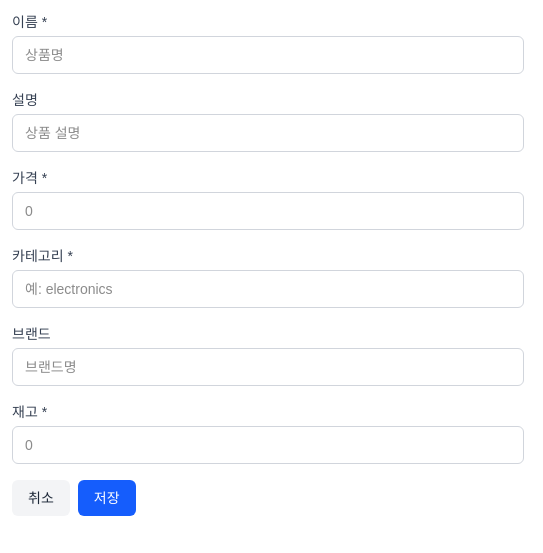
ProductForm › 재고가 음수이면 에러를 표시한다
This screenshot has width=543, height=553.
Type "테스트" into the field labelled "이름 *".
click(268, 55); type("테스트")  # box [12,36,524,74]
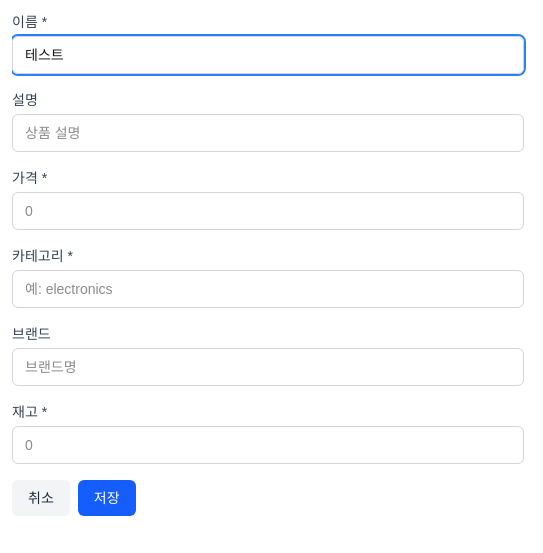
Type "electronics" into the field labelled "카테고리 *".
click(268, 289); type("electronics")  # box [12,270,524,308]
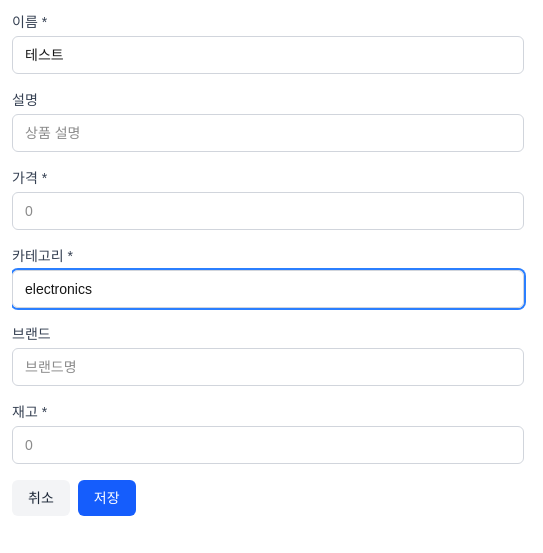
Type "1000" into the number field labelled "가격 *".
click(268, 211); type("1000")  # box [12,192,524,230]
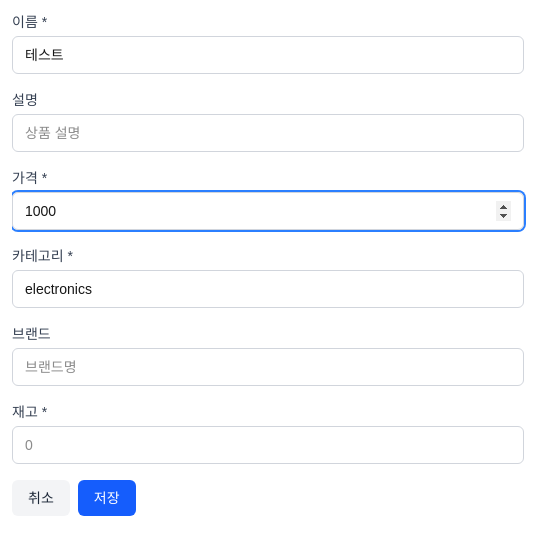
Type "-1" into the number field labelled "재고 *".
click(268, 445); type("-1")  # box [12,426,524,464]
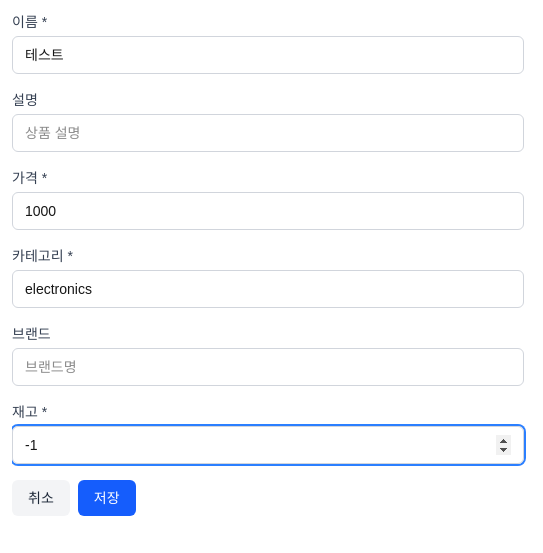
Click the button "저장".
click(107, 498)  # box [78,480,136,516]
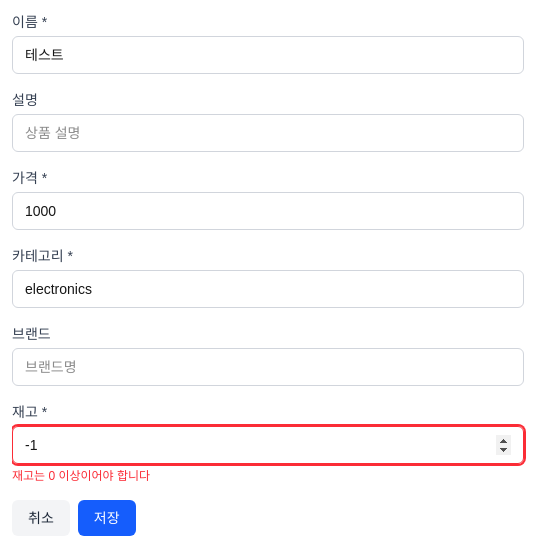
Now the text "재고는 0 이상이어야 합니다" is shown, box [12,469,150,483]
